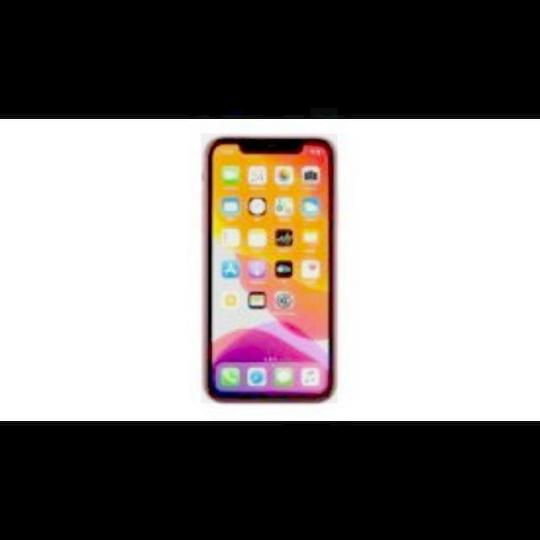phone: (198, 136, 342, 404)
